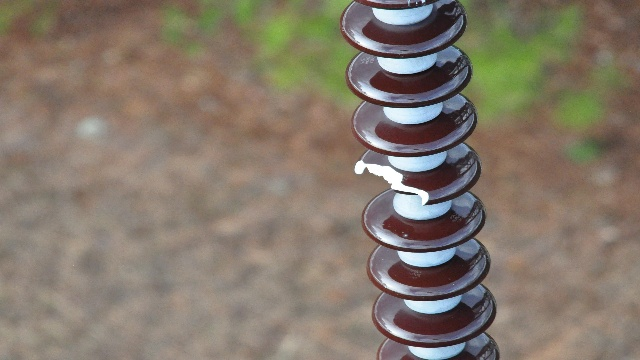broken_local: (353, 160, 432, 207)
insulator_unspecified: (338, 0, 503, 358)
